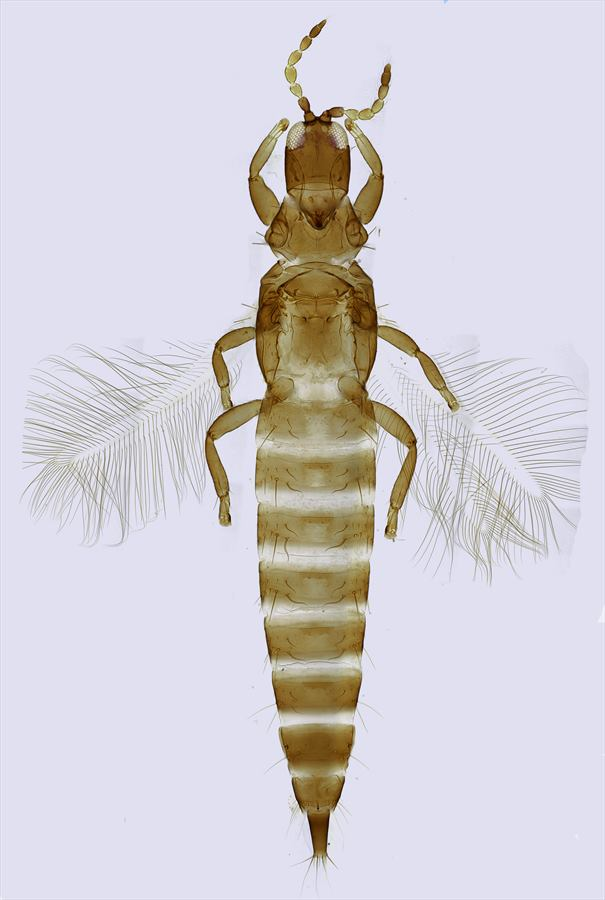Phlaeothripidae: (21, 20, 586, 873)
